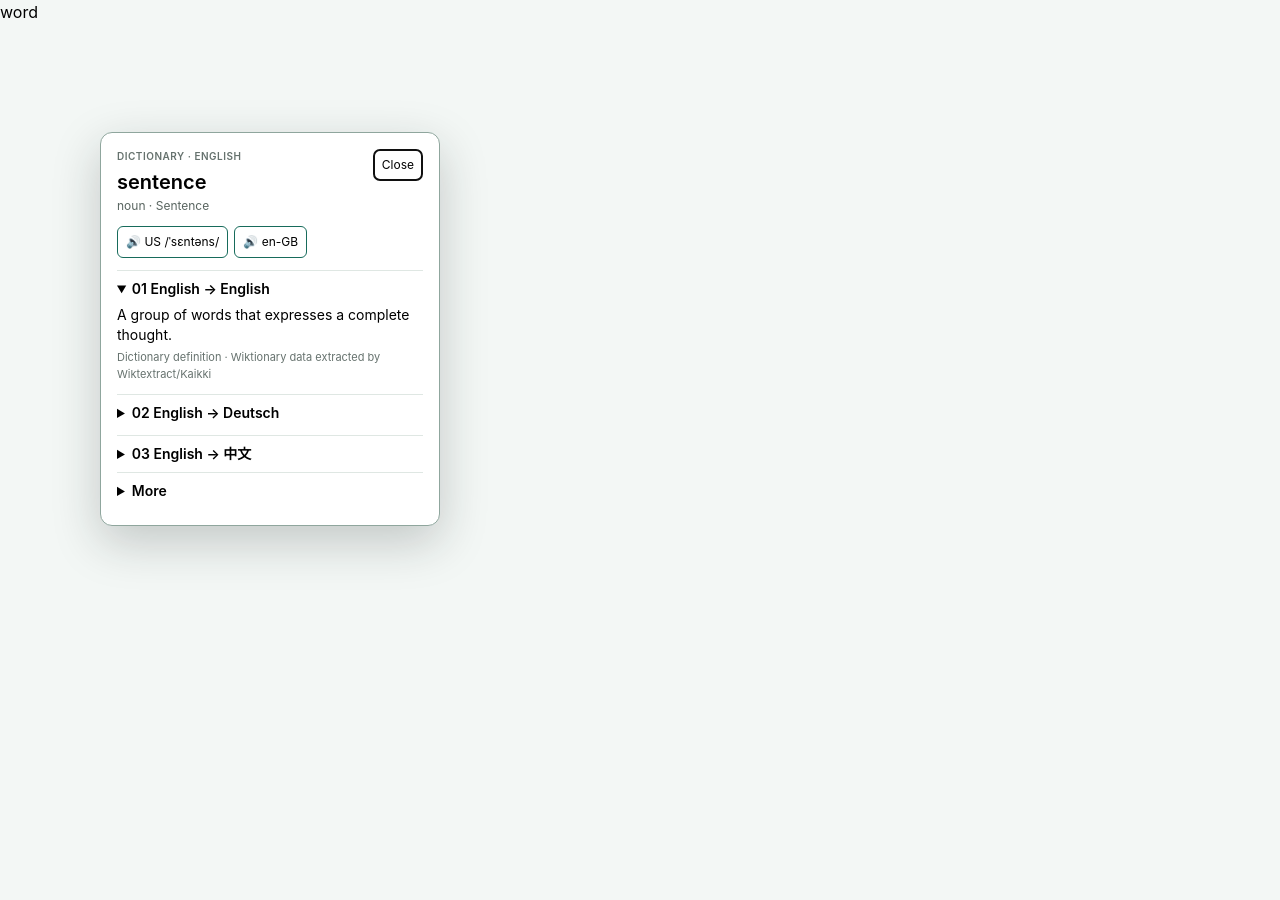
Test: DictionaryPanel › preserves the TTS error category tts_upstream_rejected
This screenshot has width=1280, height=900.
Click the button "🔊 en-GB" at (271, 242), box [234, 226, 307, 258]
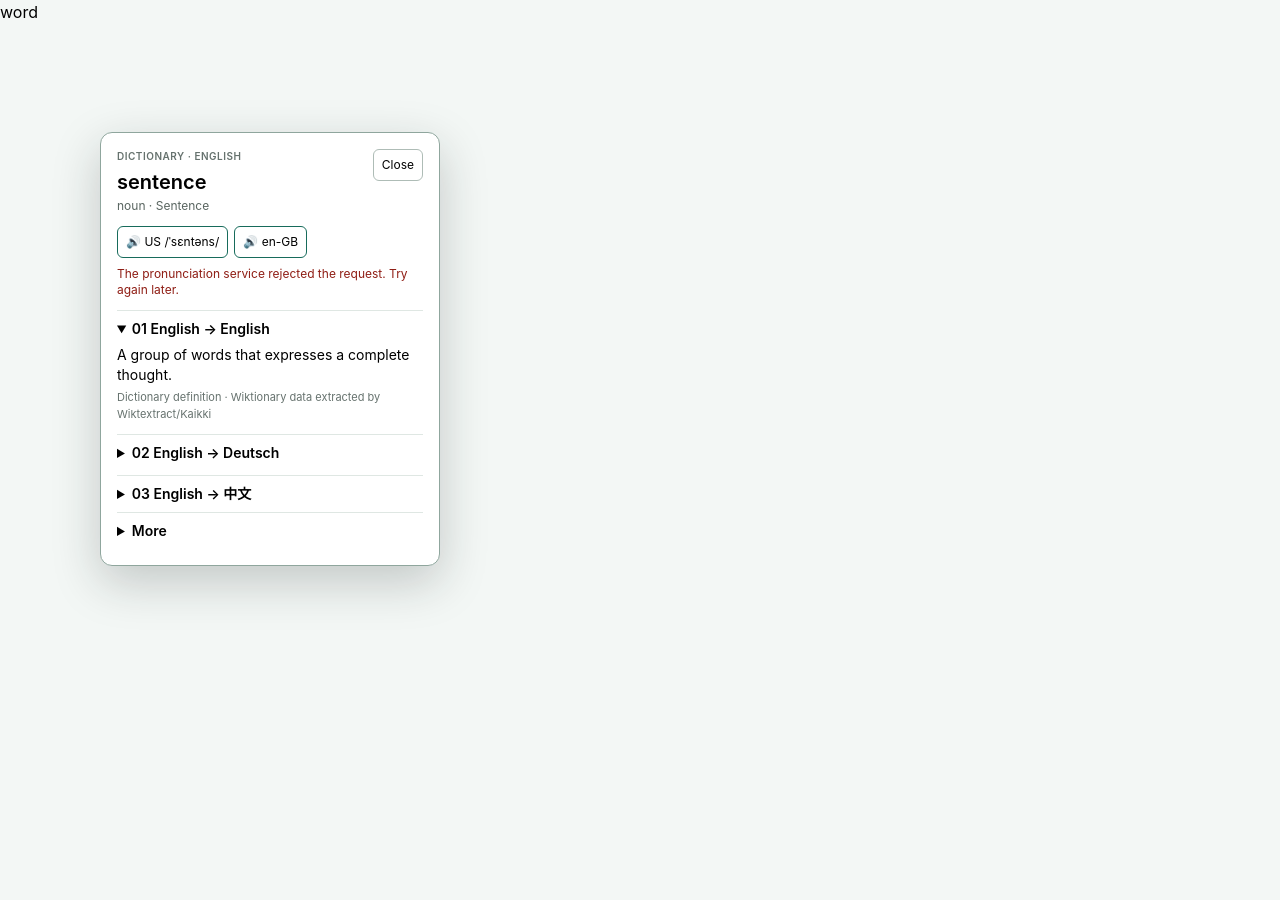
Now the message shows "pronunciation service rejected the request", box [117, 266, 408, 297]
